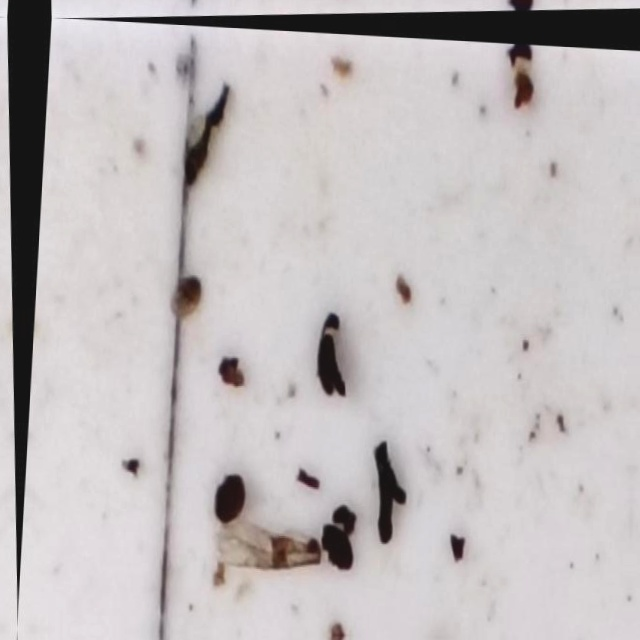varroa: (213, 465, 245, 521)
